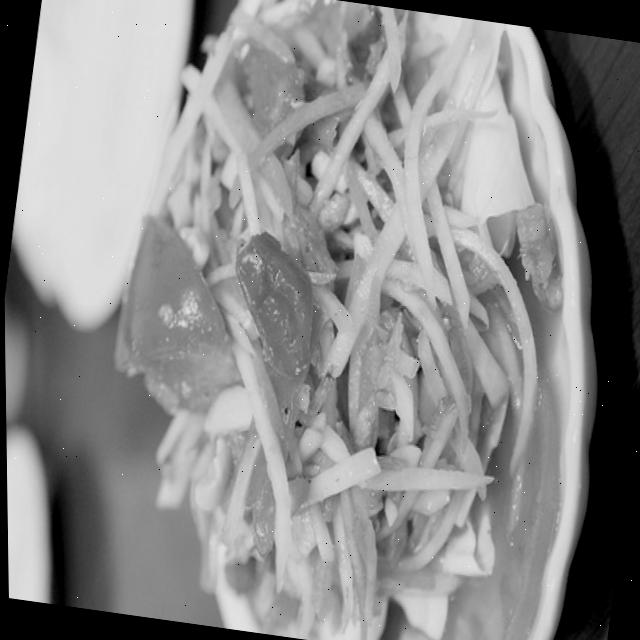蔬菜料理: (24, 0, 637, 640)
